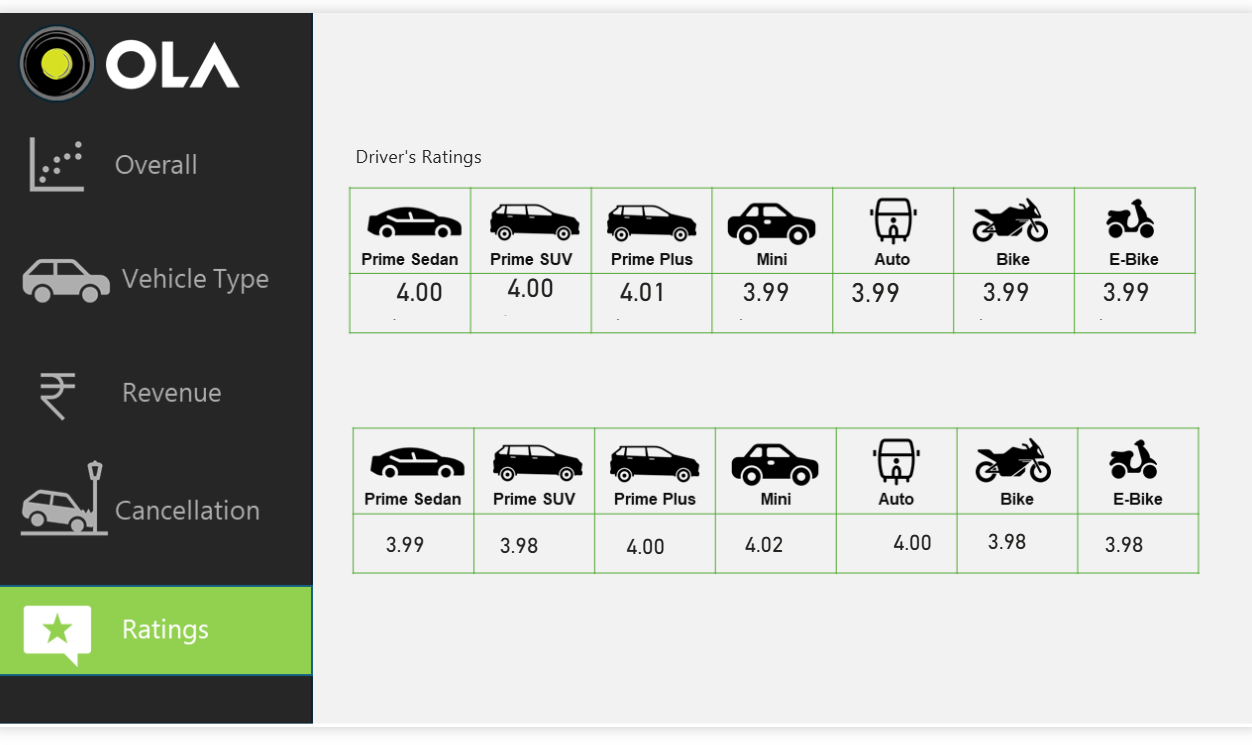

The page's visual inventory and layout, read from the dashboard file:
{"tool":"powerbi","page":{"name":"Ratings","canvas":[1280,720],"ordinal":4},"visuals":[{"type":"actionButton","box":[11.4,230,292.9,91.4],"z":0},{"type":"actionButton","box":[12.9,348.6,292.9,71.4],"z":1000},{"type":"actionButton","box":[11.4,440,305.7,108.6],"z":2000},{"type":"actionButton","box":[12.9,585.7,231.4,82.9],"z":3000},{"type":"card","fields":{"Values":["Avg(Bookings.Driver_Ratings)"]},"box":[504,262,78,48],"z":4000},{"type":"card","fields":{"Values":["Avg(Bookings.Driver_Ratings)"]},"box":[618,266,78,48],"z":5000},{"type":"card","fields":{"Values":["Avg(Bookings.Driver_Ratings)"]},"box":[742,266,78,48],"z":6000},{"type":"card","fields":{"Values":["Avg(Bookings.Driver_Ratings)"]},"box":[852,266,78,48],"z":7000},{"type":"card","fields":{"Values":["Avg(Bookings.Driver_Ratings)"]},"box":[984,266,78,48],"z":8000},{"type":"card","fields":{"Values":["Avg(Bookings.Driver_Ratings)"]},"box":[1106,266,78,48],"z":9000},{"type":"textbox","box":[362,126,182,46],"z":10000},{"type":"card","fields":{"Values":["Avg(Bookings.Driver_Ratings)"]},"box":[392,266,78,48],"z":11000},{"type":"card","fields":{"Values":["Avg(Bookings.Customer_Rating)"]},"box":[380,509.1,72.7,53.6],"z":12000},{"type":"card","fields":{"Values":["Avg(Bookings.Customer_Rating)"]},"box":[494.5,510,72.7,53.6],"z":13000},{"type":"card","fields":{"Values":["Avg(Bookings.Customer_Rating)"]},"box":[622,510,74,54],"z":14000},{"type":"card","fields":{"Values":["Avg(Bookings.Customer_Rating)"]},"box":[742,514,74,44],"z":15000},{"type":"card","fields":{"Values":["Avg(Bookings.Customer_Rating)"]},"box":[892,512,74,44],"z":16000},{"type":"card","fields":{"Values":["Avg(Bookings.Customer_Rating)"]},"box":[988,514,74,38],"z":17000},{"type":"card","fields":{"Values":["Avg(Bookings.Customer_Rating)"]},"box":[1106,516,74,38],"z":18000}]}

Visuals, with their boxes on the page's 1280x720 design canvas (x1, y1, x2, y2). These are canvas units, not pixel positions in the 1252x745 screenshot, which may show the page scaled, cropped or inside an application window:
actionButton: box=[11, 230, 304, 321]
actionButton: box=[13, 349, 306, 420]
actionButton: box=[11, 440, 317, 549]
actionButton: box=[13, 586, 244, 669]
card - Avg(Bookings.Driver_Ratings): box=[504, 262, 582, 310]
card - Avg(Bookings.Driver_Ratings): box=[618, 266, 696, 314]
card - Avg(Bookings.Driver_Ratings): box=[742, 266, 820, 314]
card - Avg(Bookings.Driver_Ratings): box=[852, 266, 930, 314]
card - Avg(Bookings.Driver_Ratings): box=[984, 266, 1062, 314]
card - Avg(Bookings.Driver_Ratings): box=[1106, 266, 1184, 314]
textbox: box=[362, 126, 544, 172]
card - Avg(Bookings.Driver_Ratings): box=[392, 266, 470, 314]
card - Avg(Bookings.Customer_Rating): box=[380, 509, 453, 563]
card - Avg(Bookings.Customer_Rating): box=[494, 510, 567, 564]
card - Avg(Bookings.Customer_Rating): box=[622, 510, 696, 564]
card - Avg(Bookings.Customer_Rating): box=[742, 514, 816, 558]
card - Avg(Bookings.Customer_Rating): box=[892, 512, 966, 556]
card - Avg(Bookings.Customer_Rating): box=[988, 514, 1062, 552]
card - Avg(Bookings.Customer_Rating): box=[1106, 516, 1180, 554]
